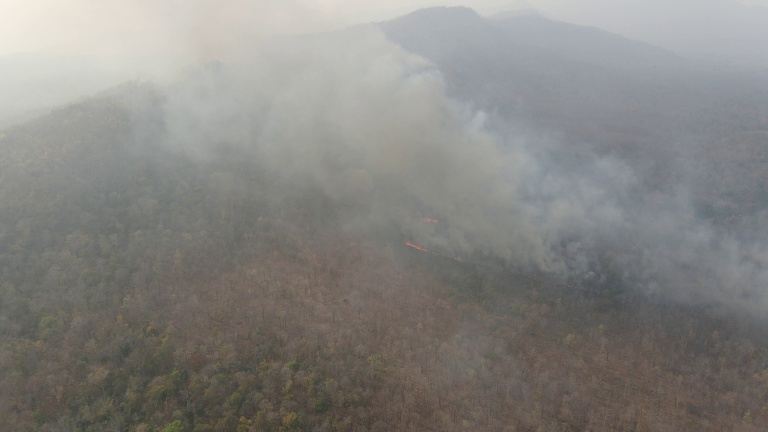fire: (447, 251, 477, 264), (403, 241, 429, 254), (418, 214, 443, 224)
smoke: (160, 2, 585, 289)
